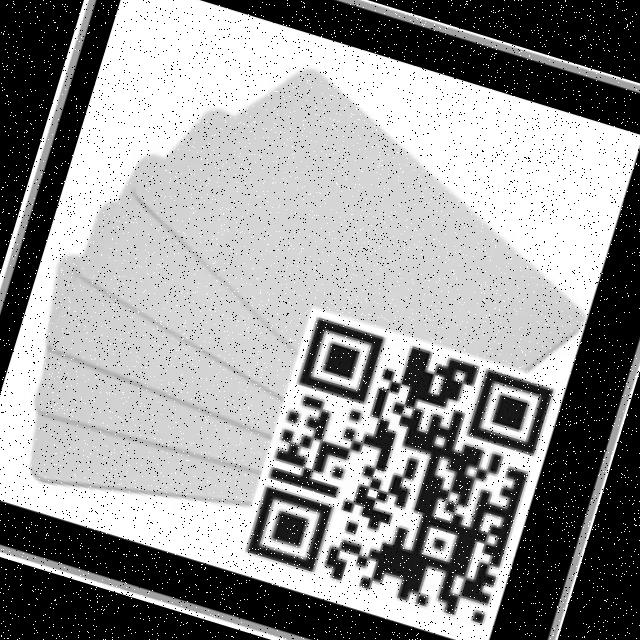QR-codes: (242, 314, 558, 626)
